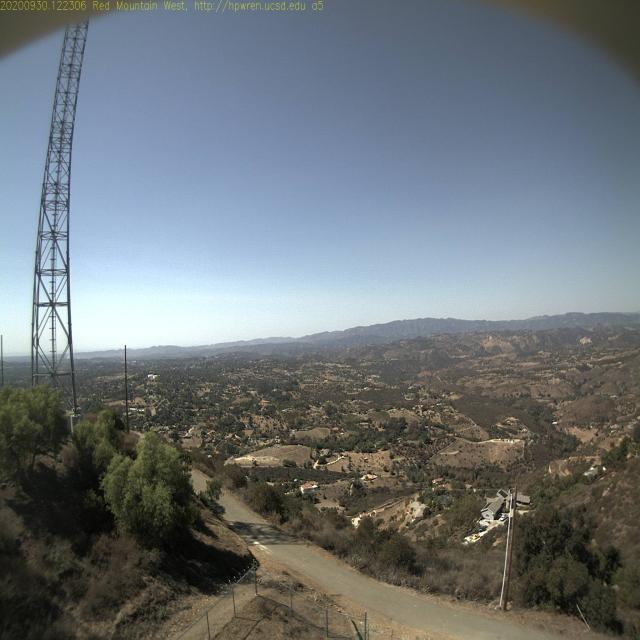smoke: (64, 324, 74, 359)
